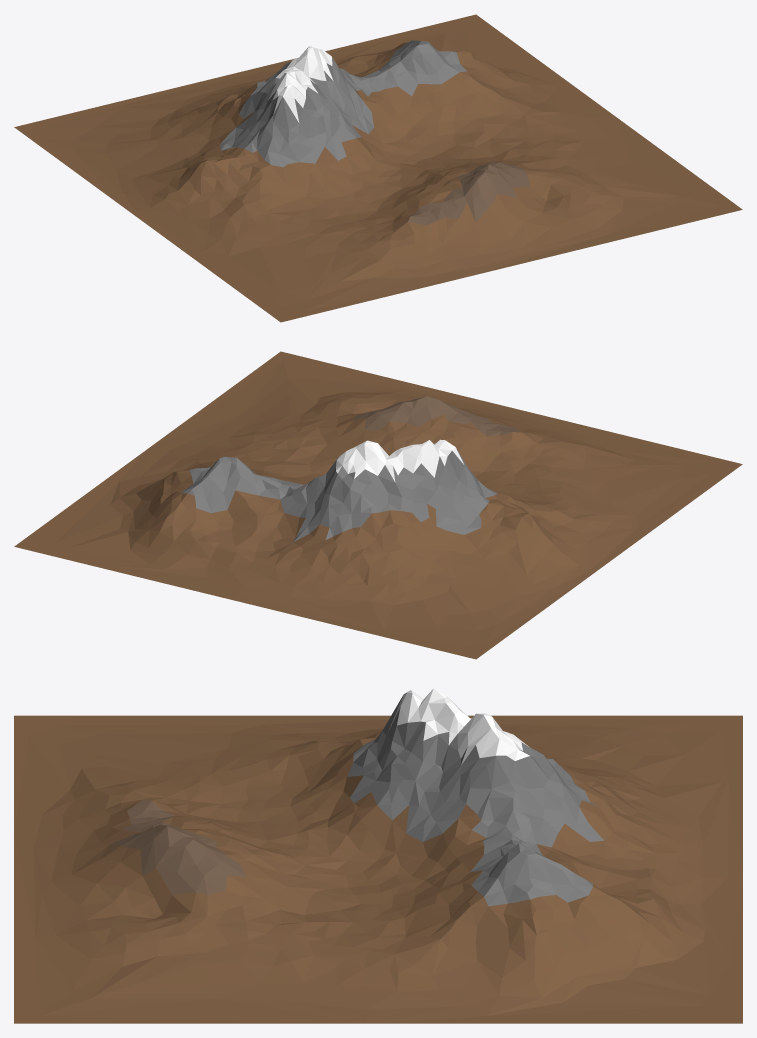
File: mountain02.fbx
3 renders of one model, top to bottom at view 1: azimuth 30°, elevation 25°; view 2: azimuth 150°, elevation 25°; view 3: azimuth 270°, elevation 25°, orthographic. The views are drawn at different scales.
Parts seen in each view (by area): view 1: mountain02; view 2: mountain02; view 3: mountain02.
Part boxes in pixels (left/top/right/bottom): mountain02: left=14, top=14, right=742, bottom=322; mountain02: left=14, top=351, right=742, bottom=659; mountain02: left=14, top=688, right=742, bottom=1023.
Bounding box in the file's own units: 10000 × 2065 × 10000.
